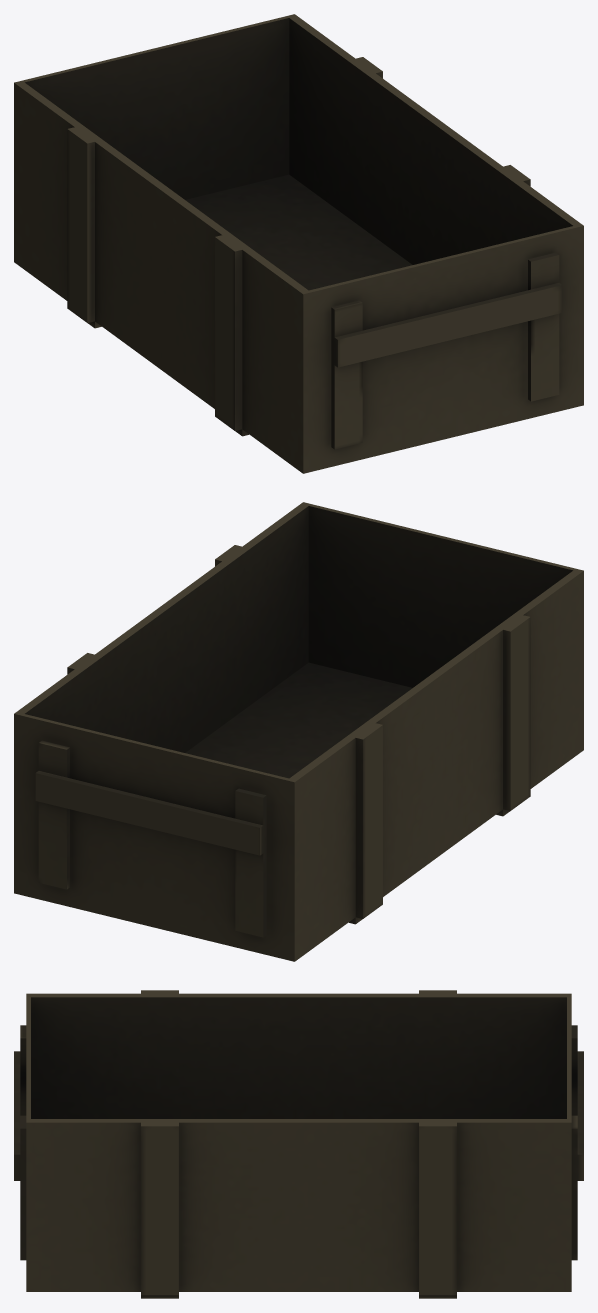
The model's file is Crate_Medium.fbx.
3 views of the same model, one above another, from view 1: azimuth 30°, elevation 25°; view 2: azimuth 150°, elevation 25°; view 3: azimuth 270°, elevation 25° (orthographic). The views are drawn at different scales.
Visible parts, largest first — view 1: Crate_Medium; view 2: Crate_Medium; view 3: Crate_Medium.
Part boxes in pixels (bbox=[...]): Crate_Medium: bbox=[14, 14, 583, 473]; Crate_Medium: bbox=[14, 502, 583, 961]; Crate_Medium: bbox=[14, 990, 583, 1298].
Bounding box in the file's own units: 1.07 × 0.6429 × 1.89.
